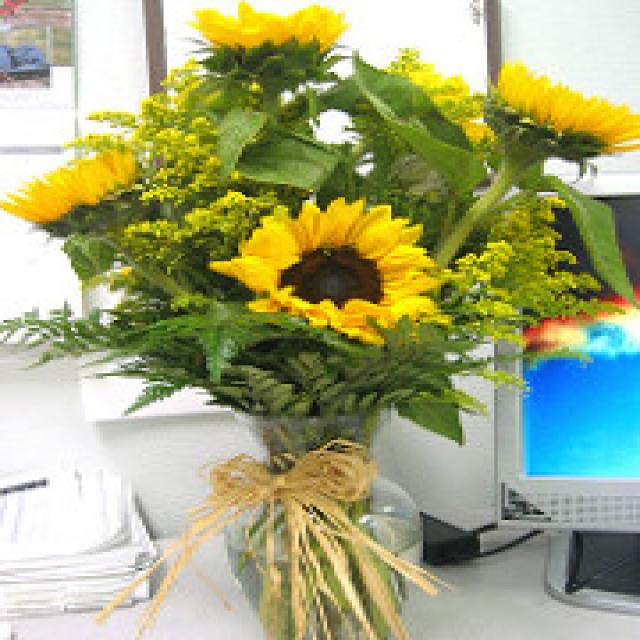sunflower: (216, 194, 439, 336), (485, 67, 640, 164), (0, 147, 139, 221), (195, 5, 351, 62), (210, 190, 213, 192)
